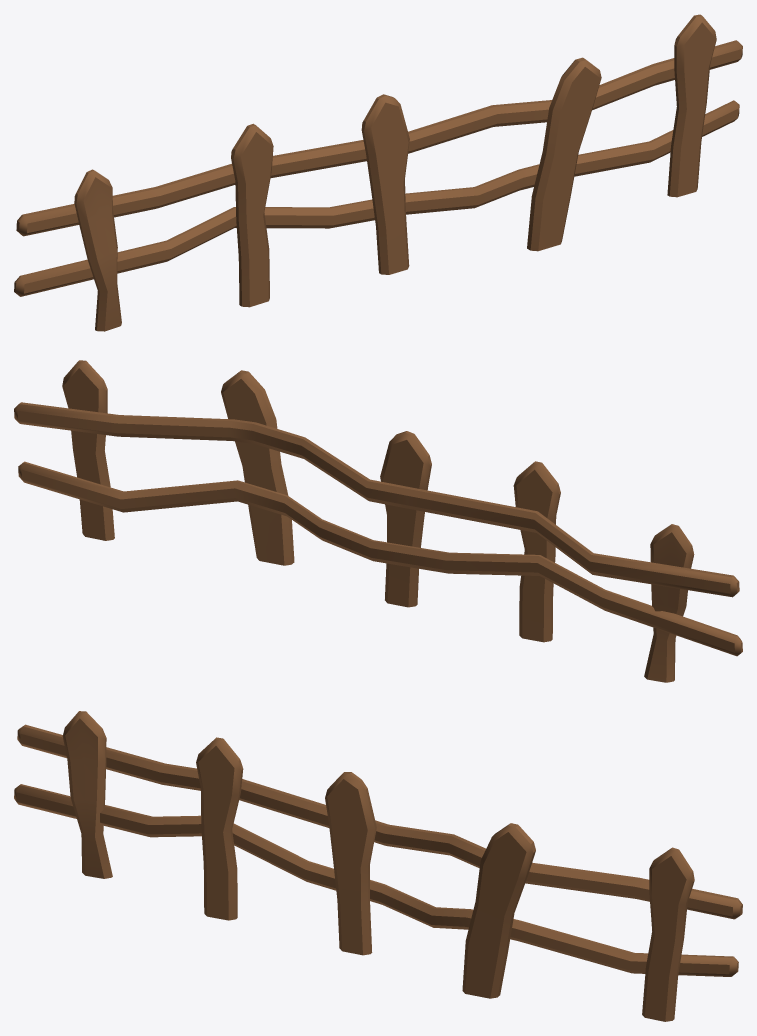
The model's file is fence.glb.
The picture shows the model from 3 angles, top to bottom: view 1: azimuth 30°, elevation 25°; view 2: azimuth 150°, elevation 25°; view 3: azimuth 330°, elevation 25°; orthographic projection.
Visible parts, largest first — view 1: fence; view 2: fence; view 3: fence.
Boxes of the visible parts, x1,y1,x2,y2 form: fence: (14,14,742,331); fence: (14,360,742,682); fence: (14,711,742,1021).
Size of the model in its own units: 4.48 by 1.05 by 0.4817.
